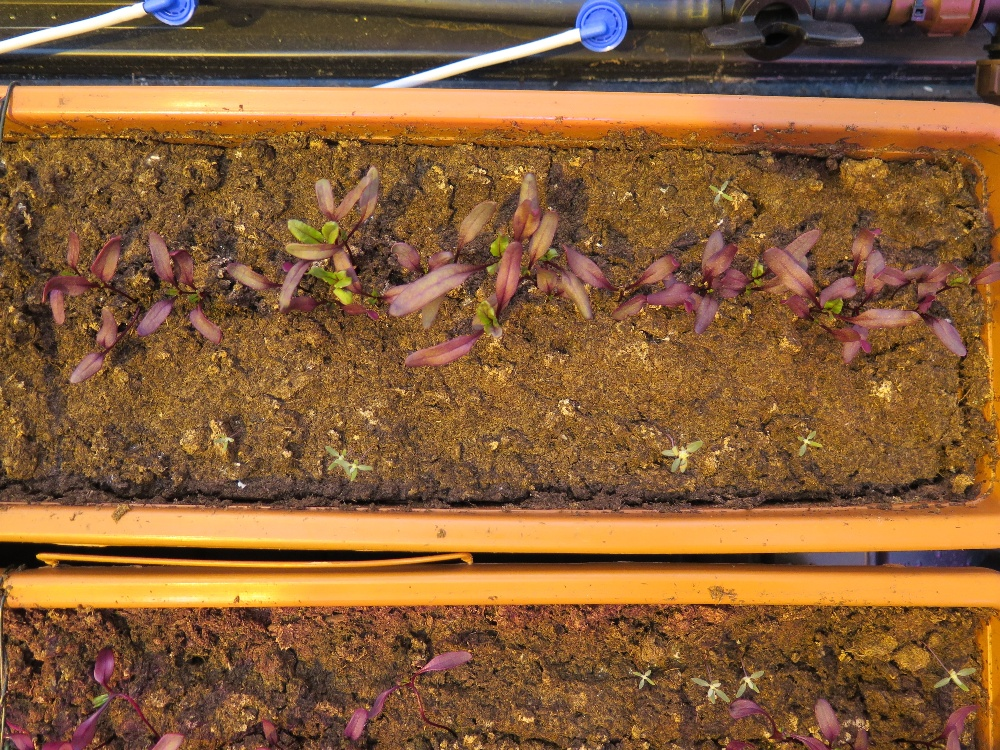crop: (395, 240, 517, 380), (753, 242, 918, 341), (339, 634, 486, 744), (57, 638, 194, 746), (507, 172, 595, 334), (867, 238, 972, 359), (389, 196, 499, 304), (642, 227, 752, 327), (280, 163, 384, 263), (495, 198, 565, 326), (690, 222, 763, 344), (791, 224, 884, 315), (555, 247, 680, 311), (41, 226, 126, 312), (728, 220, 830, 291), (773, 297, 880, 361), (293, 241, 377, 322), (72, 302, 141, 386), (223, 261, 324, 315), (40, 229, 92, 328), (173, 246, 223, 343), (726, 697, 798, 750), (143, 221, 173, 344), (784, 704, 877, 743), (940, 706, 976, 747)
weed: (932, 665, 977, 695), (689, 674, 730, 706), (735, 668, 764, 699), (795, 428, 824, 456), (212, 424, 237, 456), (708, 177, 734, 206), (631, 667, 656, 692)
